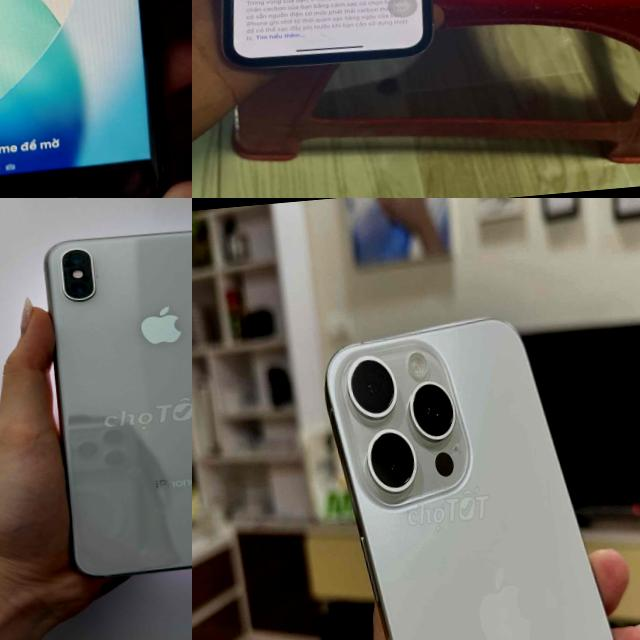scratch: (0, 0, 176, 198), (90, 269, 104, 284)
